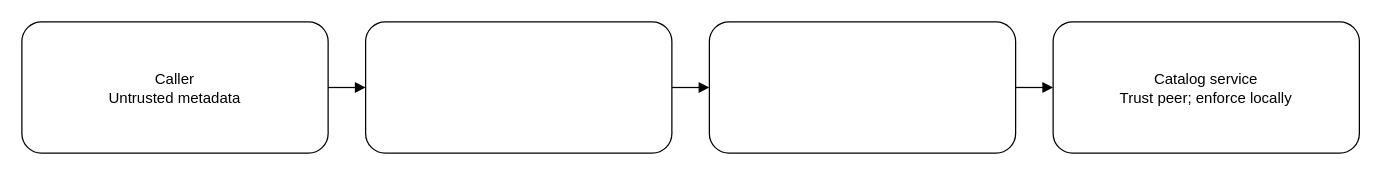
The diagram is 1381 pixels wide and 175 high, and some of its shapes have lost their labels. Each missing label, with the centre of its shape:
"Authenticated ingress Strip or overwrite" goes at (518,87).
"Orders service Resolve tier + cohort" goes at (862,87).
